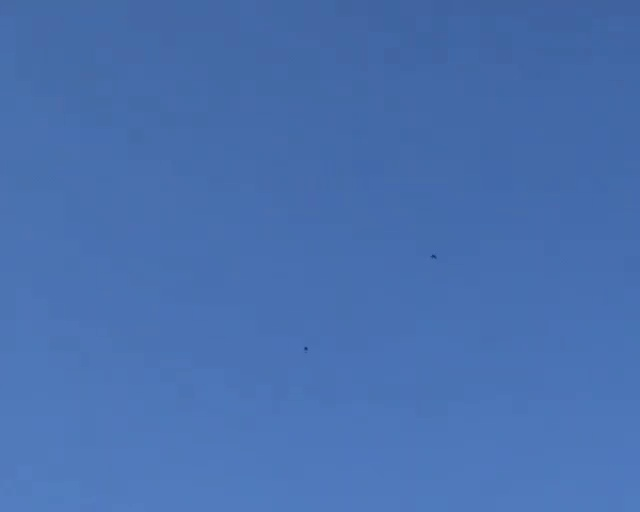BIRD: (302, 345, 309, 353)
